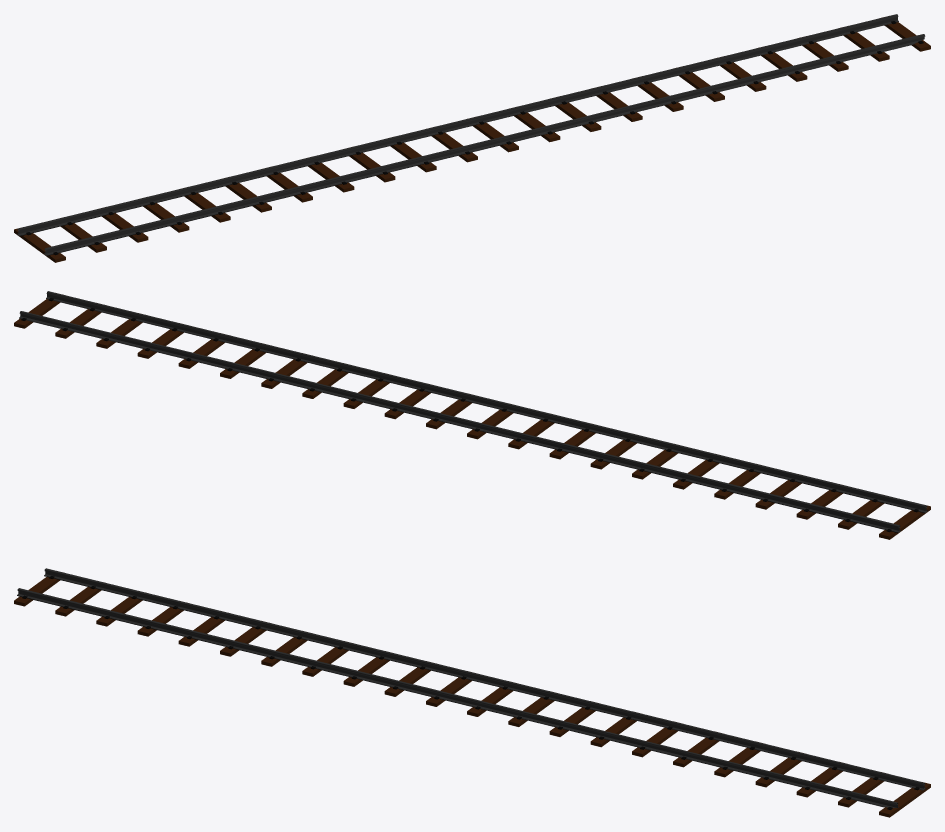
Rendered from 07 Railway_track.FBX.
3 views of the same model, one above another, from view 1: azimuth 30°, elevation 25°; view 2: azimuth 150°, elevation 25°; view 3: azimuth 330°, elevation 25° (orthographic).
Visible parts, largest first — view 1: Train_track_1; view 2: Train_track_1; view 3: Train_track_1.
Part boxes in pixels (box(x1,y1,x2,y2)): Train_track_1: box(14, 14, 930, 262); Train_track_1: box(14, 291, 930, 539); Train_track_1: box(14, 568, 930, 817).
Bounding box in the file's own units: 9988 × 105 × 812.
